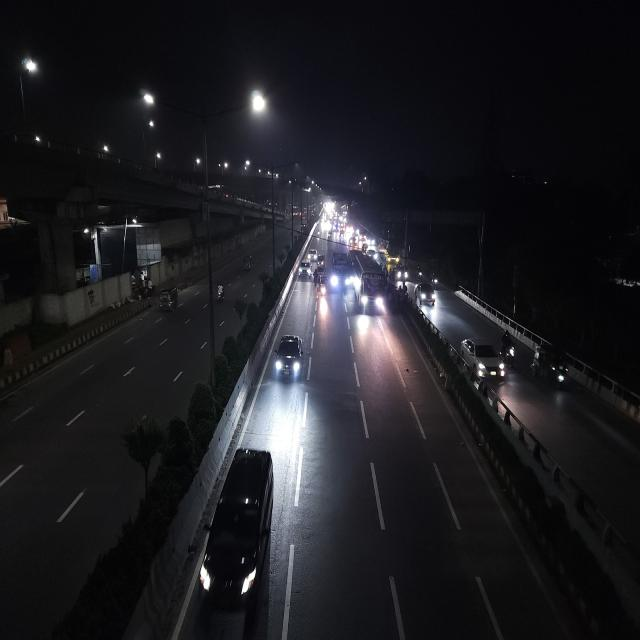bus: (352, 252, 386, 317), (330, 246, 350, 294), (383, 240, 401, 266)
car: (458, 337, 506, 382), (272, 332, 305, 387), (415, 280, 437, 310), (298, 258, 312, 280), (308, 246, 318, 262)
cng: (202, 443, 280, 621), (530, 347, 572, 392), (157, 284, 181, 314), (316, 273, 329, 298), (240, 253, 253, 272), (316, 253, 325, 271)
motorcycle: (499, 328, 518, 365), (214, 280, 227, 304), (415, 267, 424, 282)
pedestrian: (399, 279, 408, 299)
